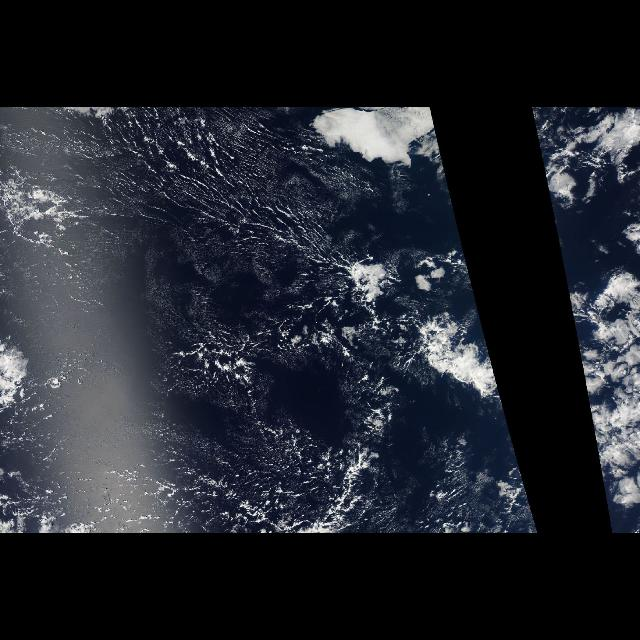Fish: (288, 337, 412, 533)
Gravel: (48, 107, 392, 533)
Sugar: (66, 108, 352, 306)
